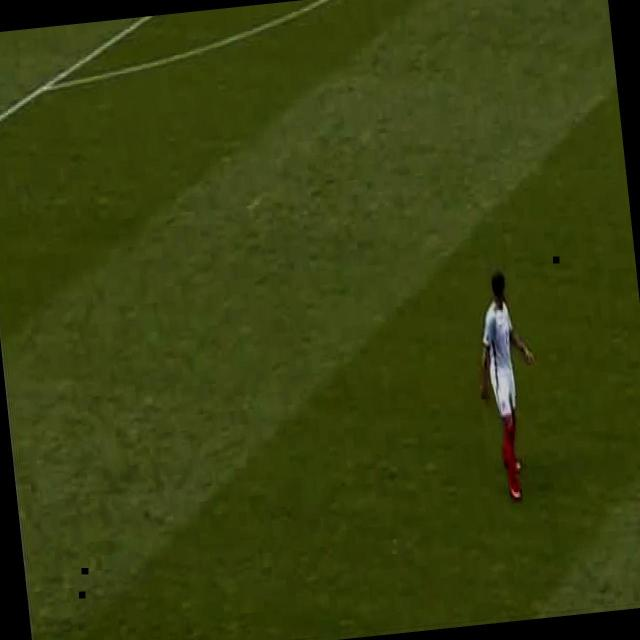player-white: (466, 265, 550, 507)
